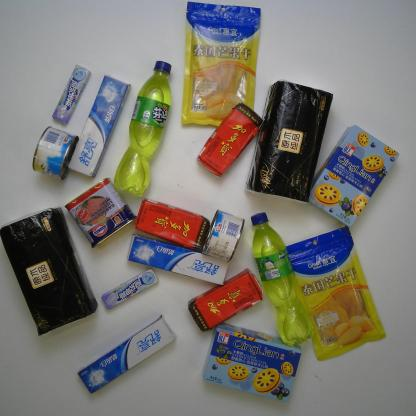Candy: (99, 268, 159, 310), (52, 64, 92, 124)
Canned Food: (64, 176, 137, 248), (31, 125, 78, 179), (201, 208, 245, 262)
Dessert: (306, 124, 400, 225), (202, 321, 303, 404)
Dried Fruit: (279, 226, 386, 362), (178, 2, 262, 131)
Drink: (250, 210, 316, 346), (112, 61, 173, 196), (195, 102, 263, 177), (186, 268, 263, 332), (133, 199, 210, 251)
Personal Hygiene: (75, 313, 178, 394), (67, 75, 131, 178), (126, 232, 229, 286)
Tissue: (1, 207, 98, 337), (242, 79, 334, 204)
